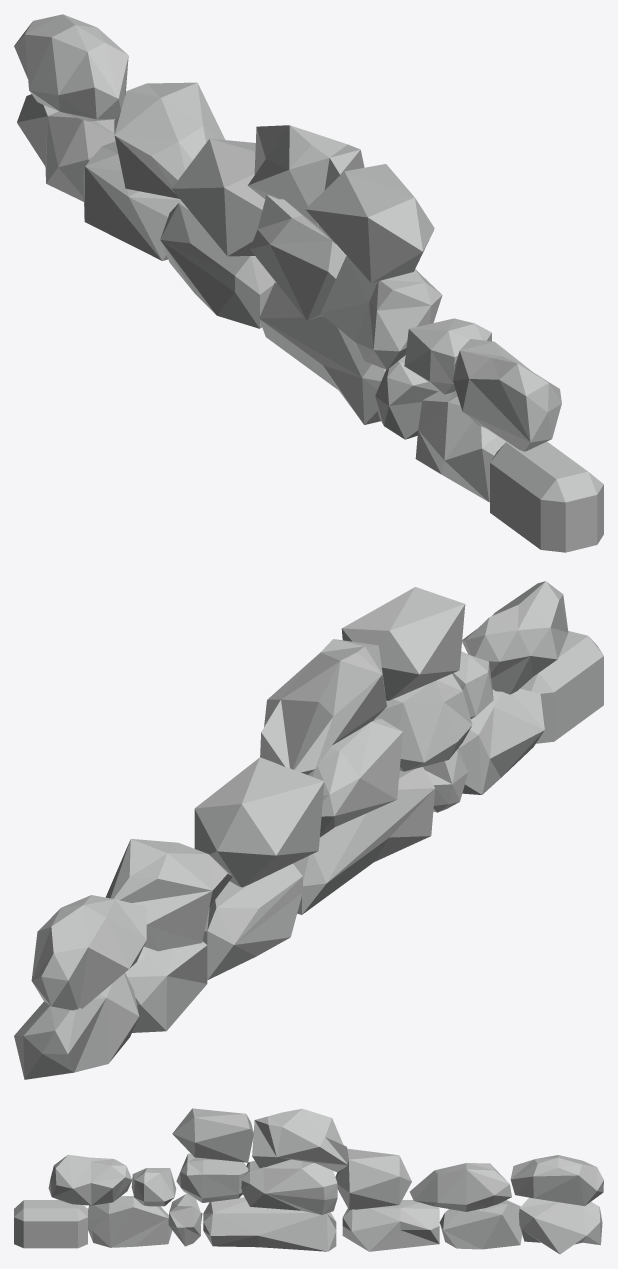
Rendered from Fence_05.glb.
3 views of the same model, one above another, from view 1: azimuth 30°, elevation 25°; view 2: azimuth 150°, elevation 25°; view 3: azimuth 270°, elevation 25° (orthographic). The views are drawn at different scales.
Parts seen in each view (by area): view 1: Fense_5_stone; view 2: Fense_5_stone; view 3: Fense_5_stone.
Boxes of the visible parts, box(x1,y1,x2,y2) form: Fense_5_stone: box(14, 14, 603, 552); Fense_5_stone: box(14, 581, 603, 1079); Fense_5_stone: box(14, 1108, 603, 1254).
Bounding box in the file's own units: 0.3515 × 0.7143 × 3.
Materials: 1 (1 with a texture image).
